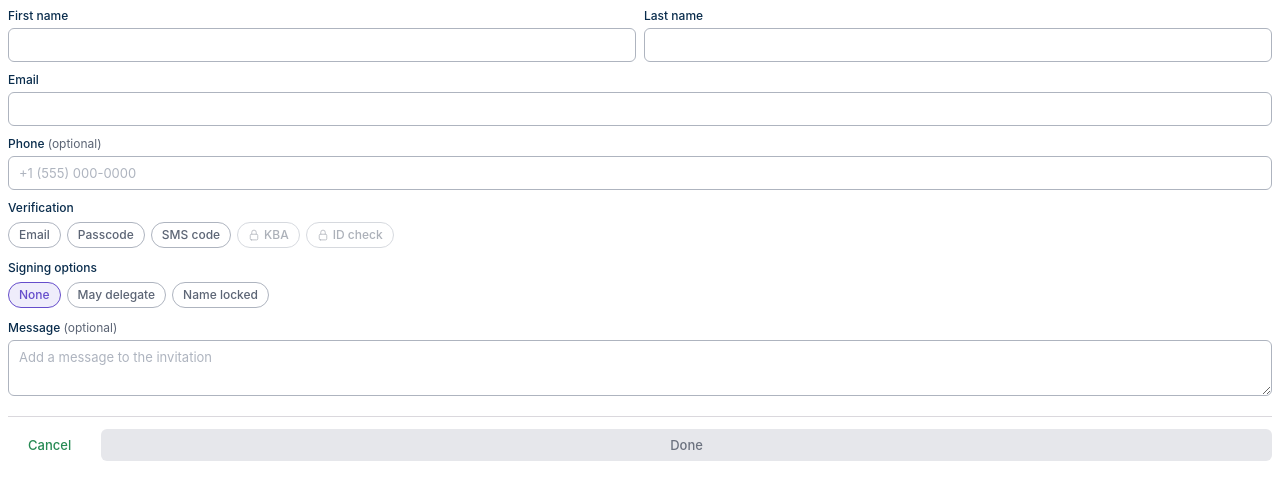
Test case: ContactPicker › shows suggestions on focus and fills the form on selection
Expected: the button "Paige Turner" is not shown
Click the field labelled "First name" at point(322, 45), box [8,28,636,62]
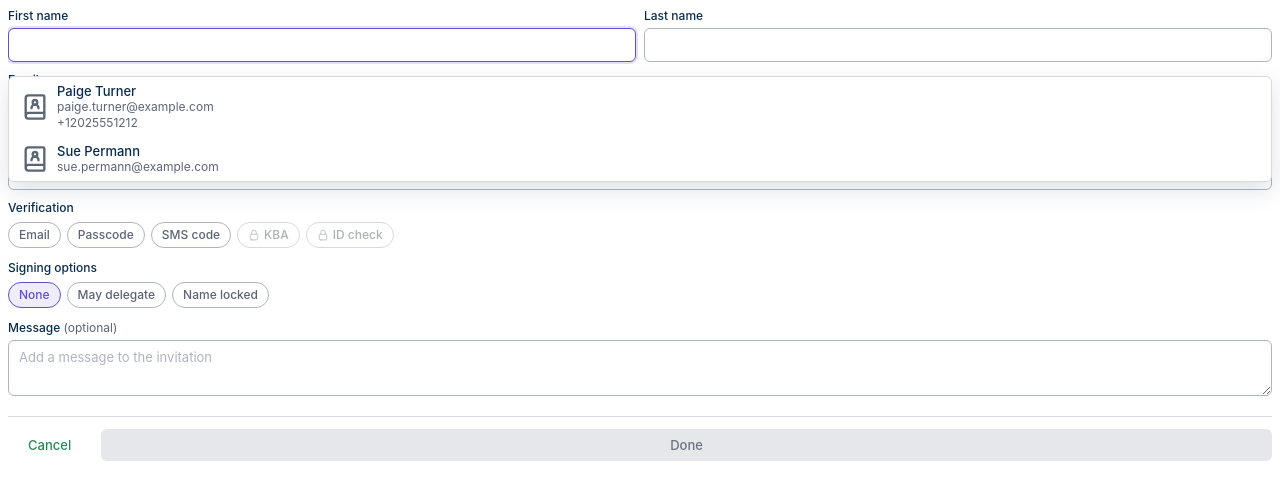
Click the button "Paige Turner paige.turner@example.com +12025551212" at point(97, 91), box [9,77,1271,137]
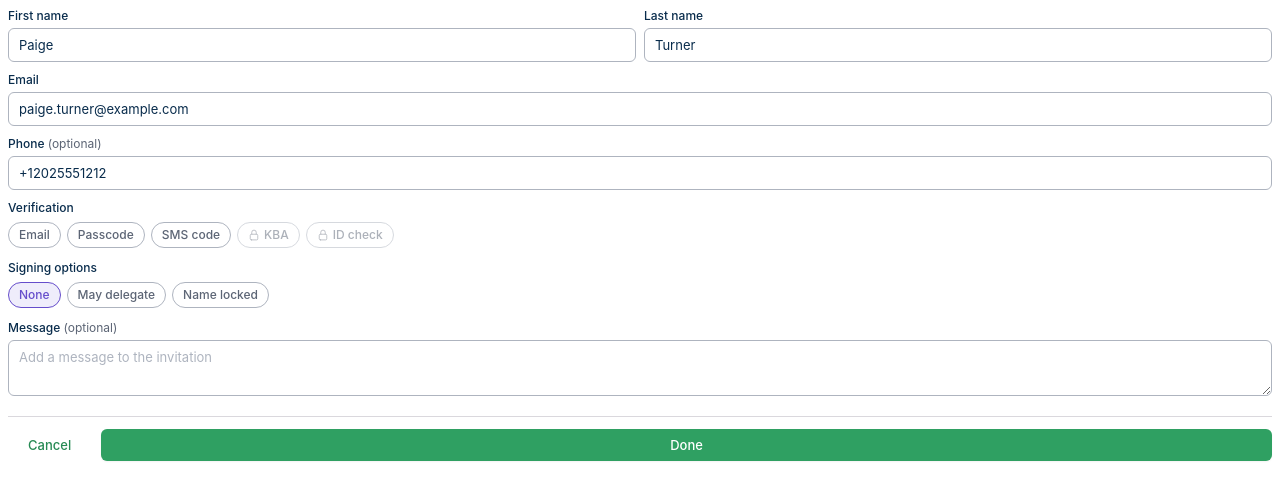
Expected: the field labelled "First name" holds "Paige", [8,28,636,62]
Expected: the field labelled "Last name" holds "Turner", [644,28,1272,62]
Expected: the field labelled "Email" holds "paige.turner@example.com", [8,92,1272,126]
